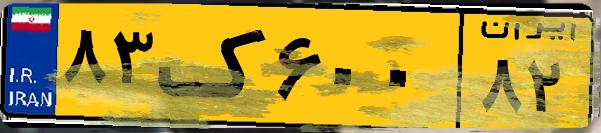0: (385, 28, 445, 110), (330, 28, 385, 110)
2: (525, 38, 570, 115)
3: (110, 28, 158, 98)
6: (270, 28, 330, 110)
8: (57, 26, 110, 100), (475, 38, 525, 113)
ک: (158, 12, 270, 120)
